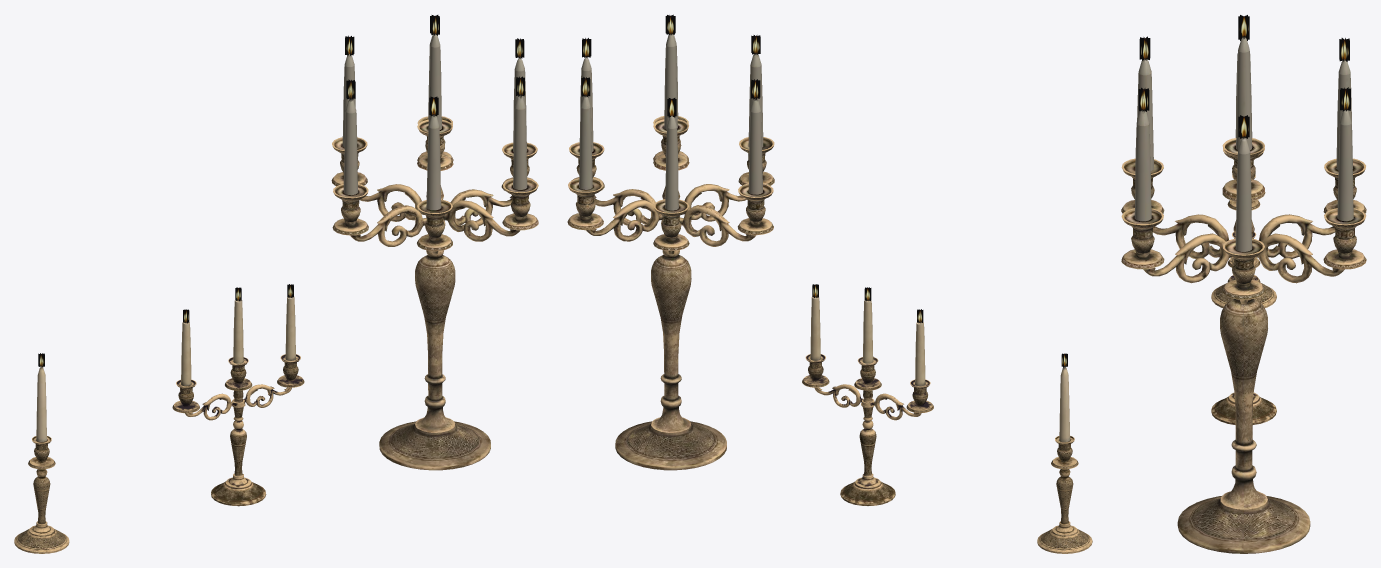
The model's file is brass_candleholders.glb.
The picture shows the model from 3 angles, left to right: view 1: azimuth 30°, elevation 25°; view 2: azimuth 150°, elevation 25°; view 3: azimuth 270°, elevation 25°; orthographic projection. The views are drawn at different scales.
Parts seen in each view (by area): view 1: brass_candleholder_03, brass_candleholder_02, brass_candleholder_01; view 2: brass_candleholder_03, brass_candleholder_02, brass_candleholder_01; view 3: brass_candleholder_03, brass_candleholder_02, brass_candleholder_01.
Boxes of the visible parts, x1,y1,x2,y2 form: brass_candleholder_03: (331,15,538,470); brass_candleholder_02: (172,284,304,506); brass_candleholder_01: (14,353,69,553); brass_candleholder_03: (567,14,774,470); brass_candleholder_02: (802,284,933,505); brass_candleholder_01: (1037,353,1092,553); brass_candleholder_03: (1121,15,1366,553); brass_candleholder_02: (1211,232,1276,424); brass_candleholder_01: (1211,174,1276,307).
Bounding box in the file's own units: 1.05 × 0.8353 × 0.3646.
5 materials, 5 textured.
